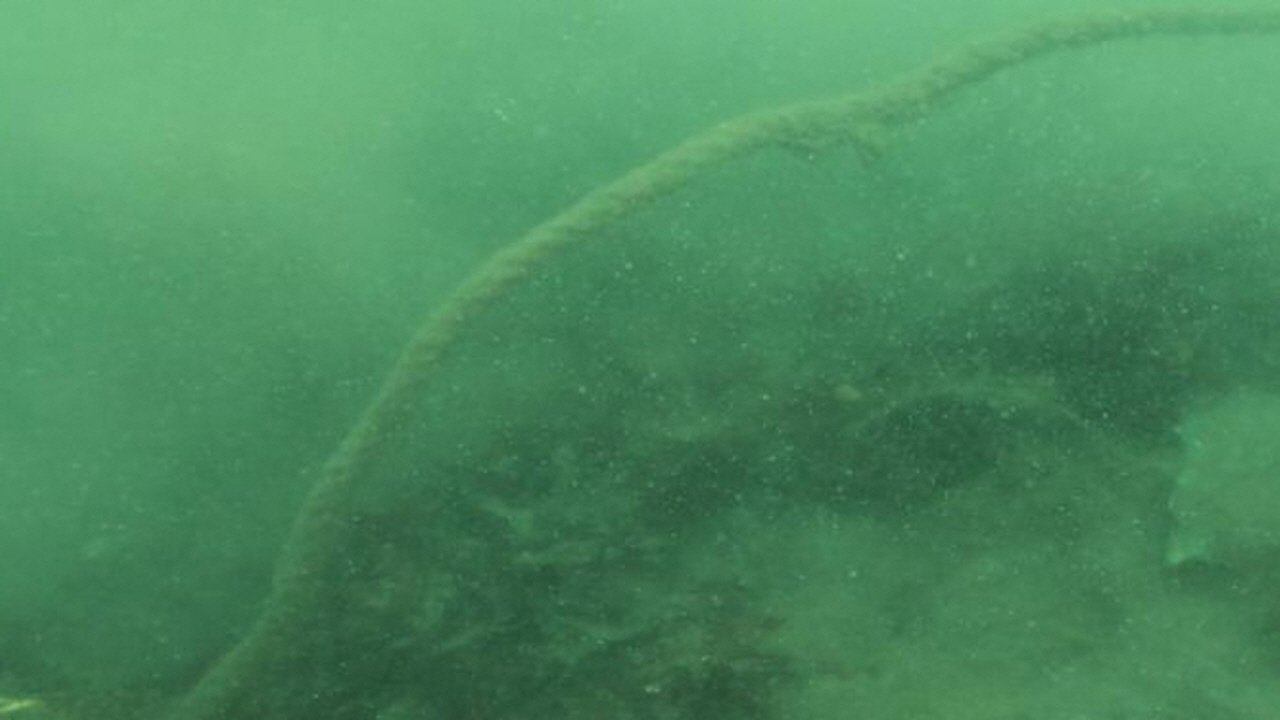rope: (176, 0, 1280, 720)
